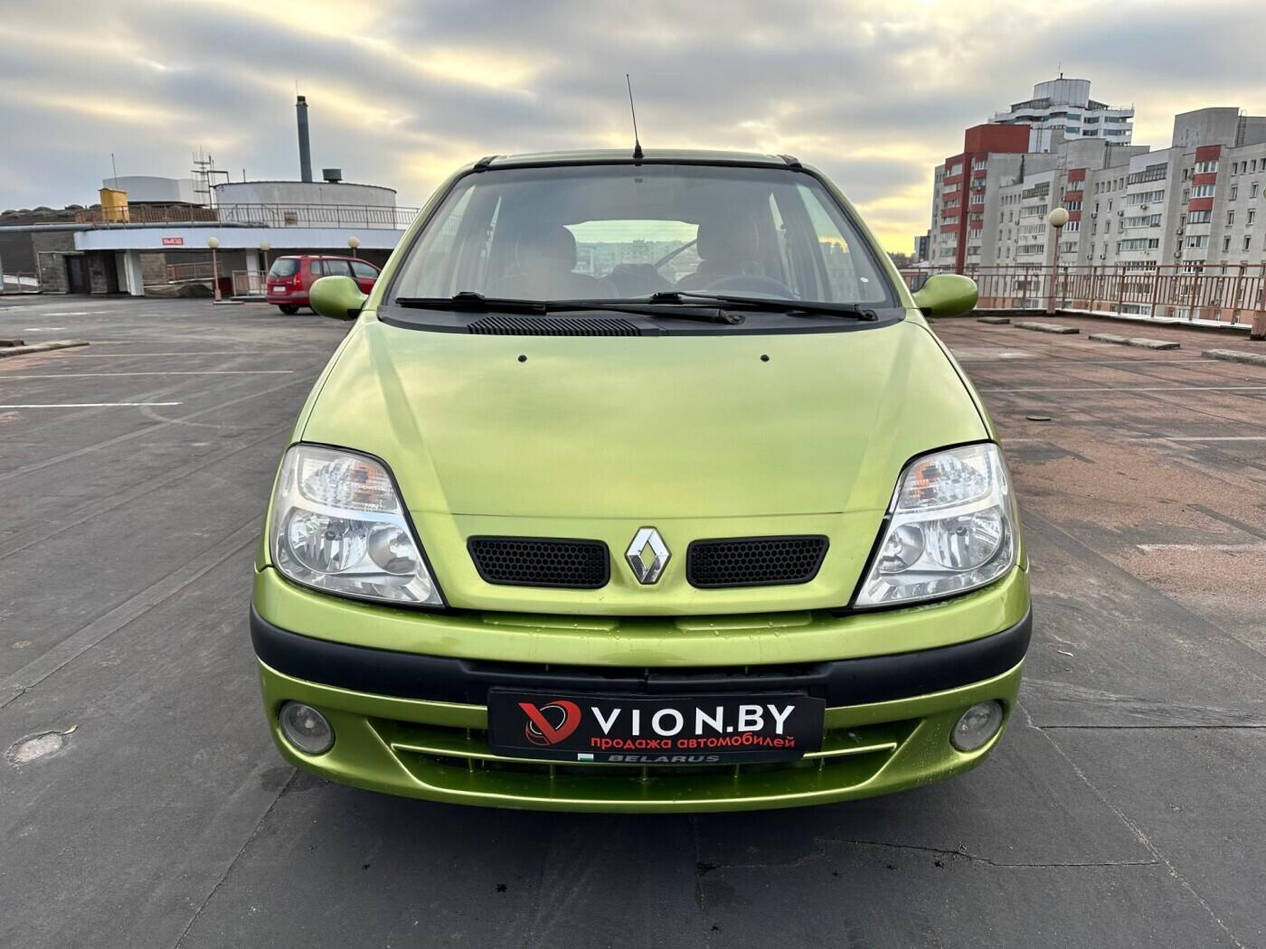Megane_1999-2003: (242, 142, 1046, 808)
